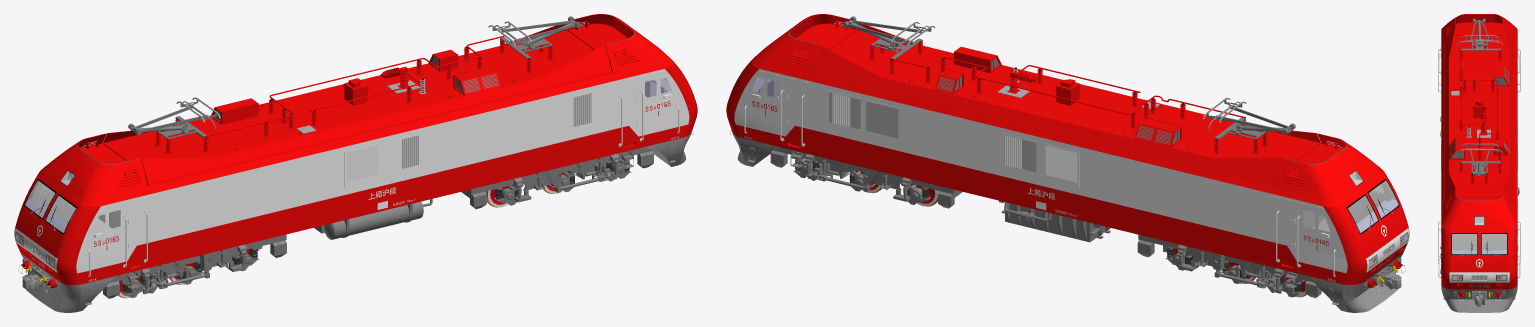
The picture shows the model from 3 angles, left to right: view 1: azimuth 30°, elevation 25°; view 2: azimuth 150°, elevation 25°; view 3: azimuth 270°, elevation 25°; orthographic projection. The views are drawn at different scales.
Parts seen in each view (by area): view 1: Material2 (×9), Material3 (×2); view 2: Material2 (×9), Material3 (×2); view 3: Material2 (×9), Material3 (×11).
Boxes of the visible parts, x1,y1,x2,y2 form: Material2 (×9): (14,14,697,312); Material3 (×2): (26,40,671,232); Material2 (×9): (726,14,1409,312); Material3 (×2): (752,42,1397,232); Material2 (×9): (1438,14,1520,312); Material3 (×11): (1438,35,1520,297).
Size of the model in its own units: 872 by 200 by 132.
Materials: 33 (4 with a texture image).
